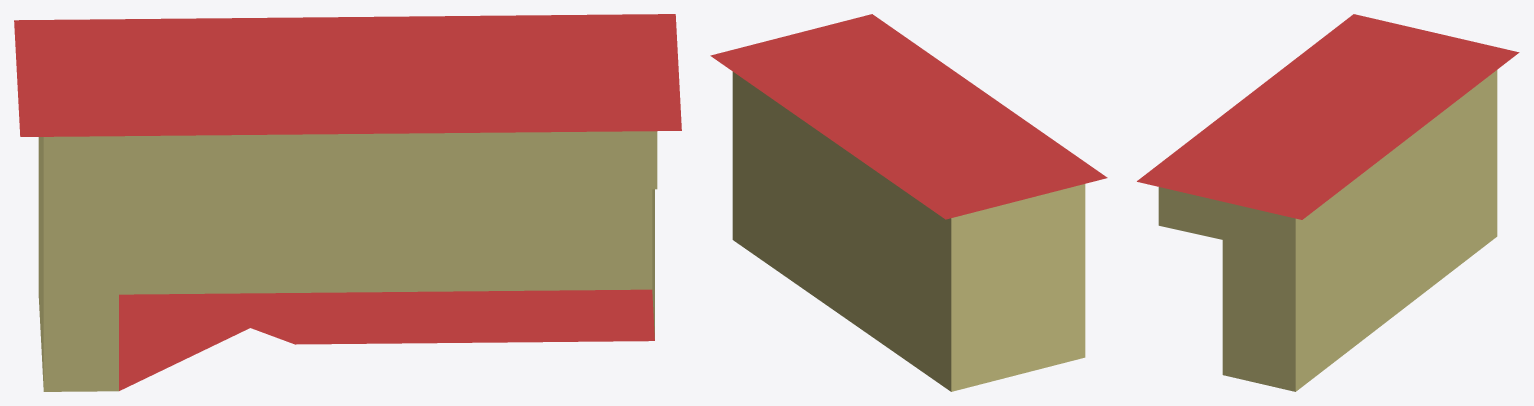
3 renders of one model, left to right at view 1: azimuth 30°, elevation 25°; view 2: azimuth 150°, elevation 25°; view 3: azimuth 270°, elevation 25°, orthographic. The views are drawn at different scales.
Bounding box in the file's own units: 22.24 × 17.48 × 9.12.
